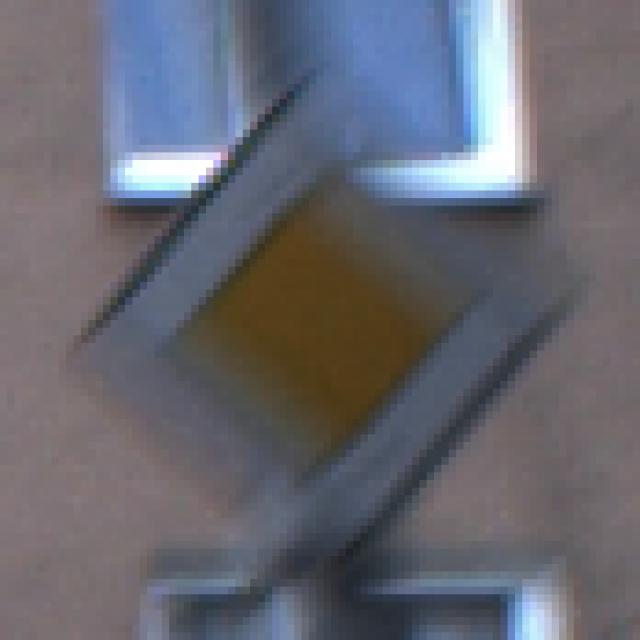Main Road: (60, 62, 589, 588)
